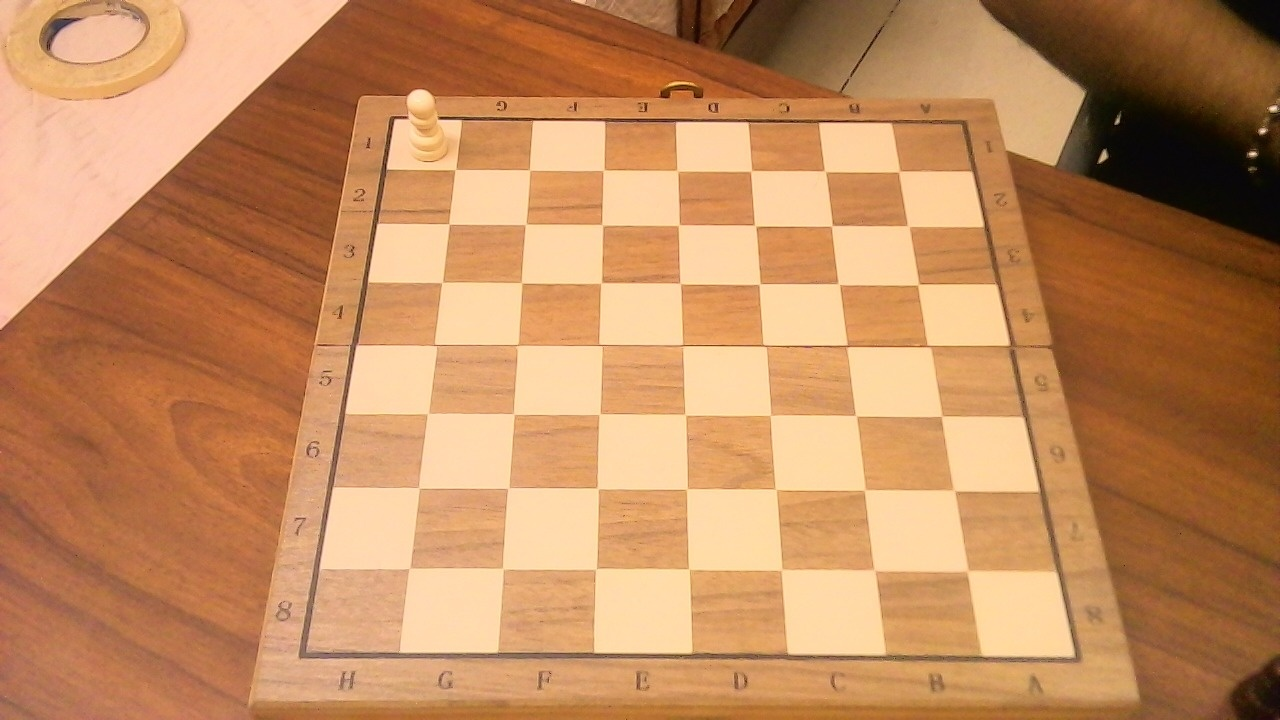P: (397, 79, 452, 166)
